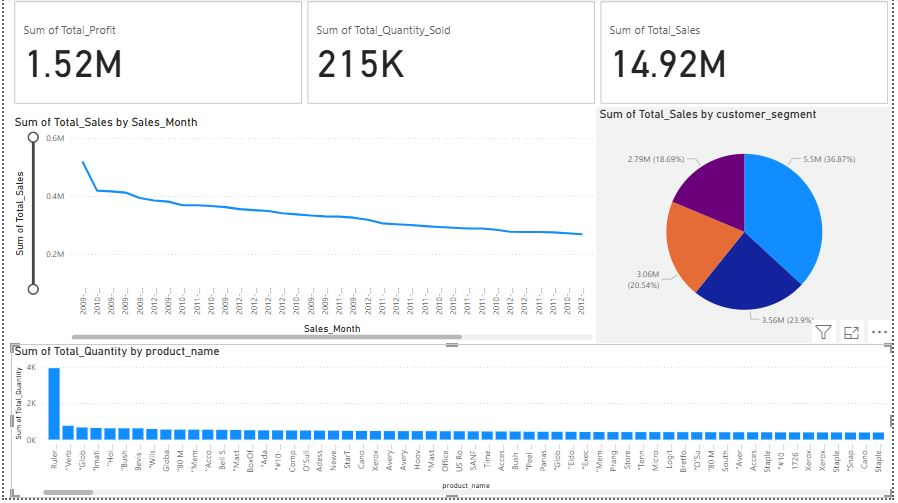

The page's visual inventory and layout, read from the dashboard file:
{"tool":"powerbi","page":{"name":"KPI SUMMARY","canvas":[1280,720],"ordinal":0},"visuals":[{"type":"cardVisual","fields":{"Data":["Sum(v_kms_kpi_summary.Total_Profit)","Sum(v_kms_kpi_summary.Total_Quantity_Sold)","Sum(v_kms_kpi_summary.Total_Sales)"]},"box":[10.1,0,1269.9,157.9],"z":0},{"type":"lineChart","fields":{"Category":["v_kms_monthly_sales.Sales_Month"],"Y":["Sum(v_kms_monthly_sales.Total_Sales)"]},"box":[9.8,168.6,843,329],"z":1},{"type":"pieChart","fields":{"Y":["Sum(v_kms_sales_by_segment.Total_Sales)"],"Category":["v_kms_sales_by_segment.customer_segment"]},"box":[852.8,157.1,427.2,340.5],"z":2},{"type":"clusteredColumnChart","fields":{"Category":["v_kms_top_selling_products.product_name"],"Y":["Sum(v_kms_top_selling_products.Total_Quantity)"]},"box":[9.8,497.6,1270.2,222.6],"z":3}]}

Visuals, with their boxes in screenshot pixels (x1, y1, x2, y2), scaled from the page's 1280x720 canvas onto the 898x503 screenshot:
cardVisual - Sum(v_kms_kpi_summary.Total_Profit) x Sum(v_kms_kpi_summary.Total_Quantity_Sold): box(7, 0, 897, 110)
lineChart - v_kms_monthly_sales.Sales_Month x Sum(v_kms_monthly_sales.Total_Sales): box(7, 118, 598, 348)
pieChart - Sum(v_kms_sales_by_segment.Total_Sales) x v_kms_sales_by_segment.customer_segment: box(598, 110, 897, 348)
clusteredColumnChart - v_kms_top_selling_products.product_name x Sum(v_kms_top_selling_products.Total_Quantity): box(7, 348, 897, 502)
